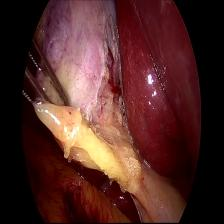Grasper: (19, 36, 73, 133)
